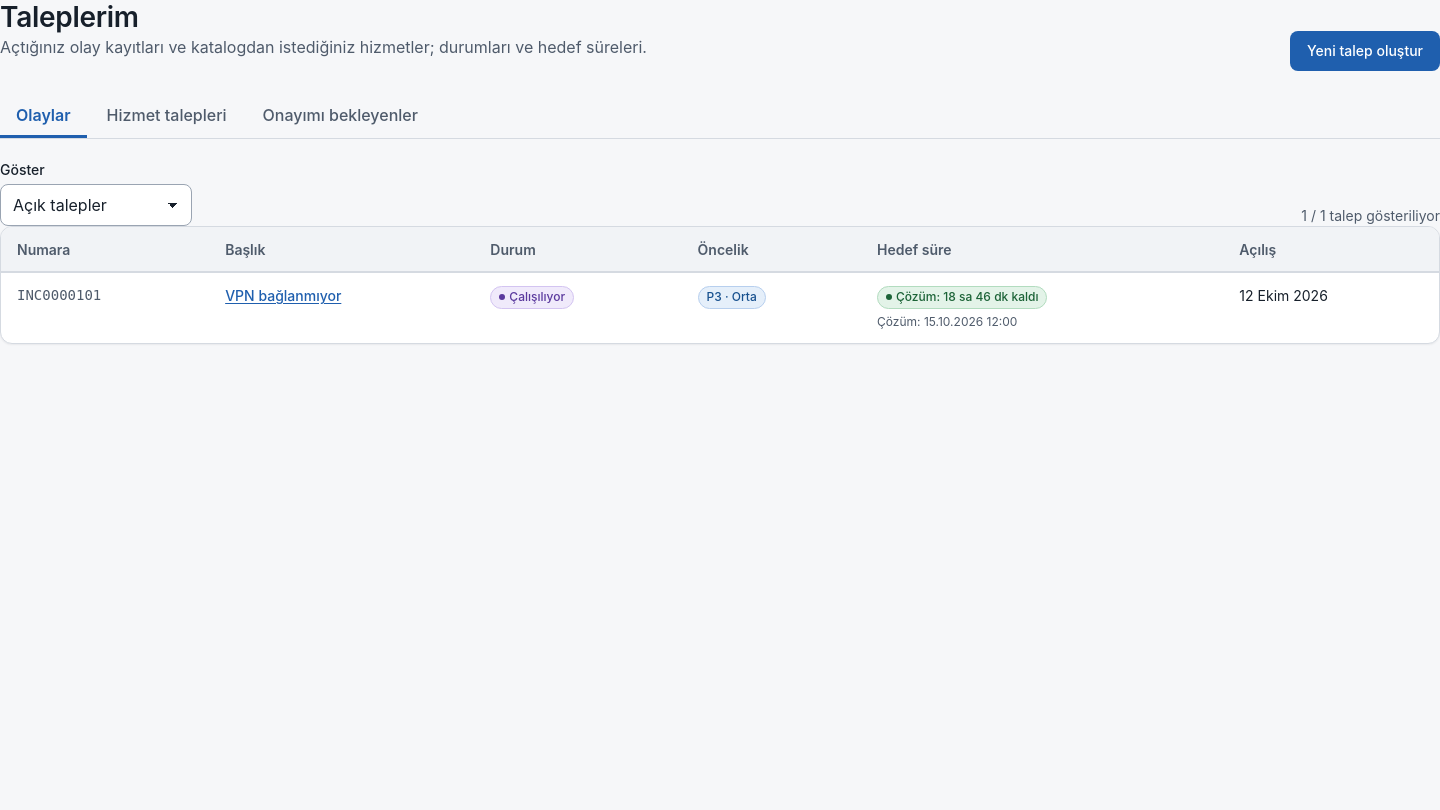
Test case: MyRequestsPage (/taleplerim) › ayrıntı paneli: kullanıcı bilgileri var, yapay zekâ iç ayrıntısı yok; Escape kapatır ve odağı geri verir
The width and height of the screenshot is (1440, 810).
Check: the heading "Taleplerim" is shown, box 0,0 -> 139,34
Step 1. Click the button with aria-label "INC0000101 VPN bağlanmıyor" → click(283, 296), box 225,285 -> 341,306
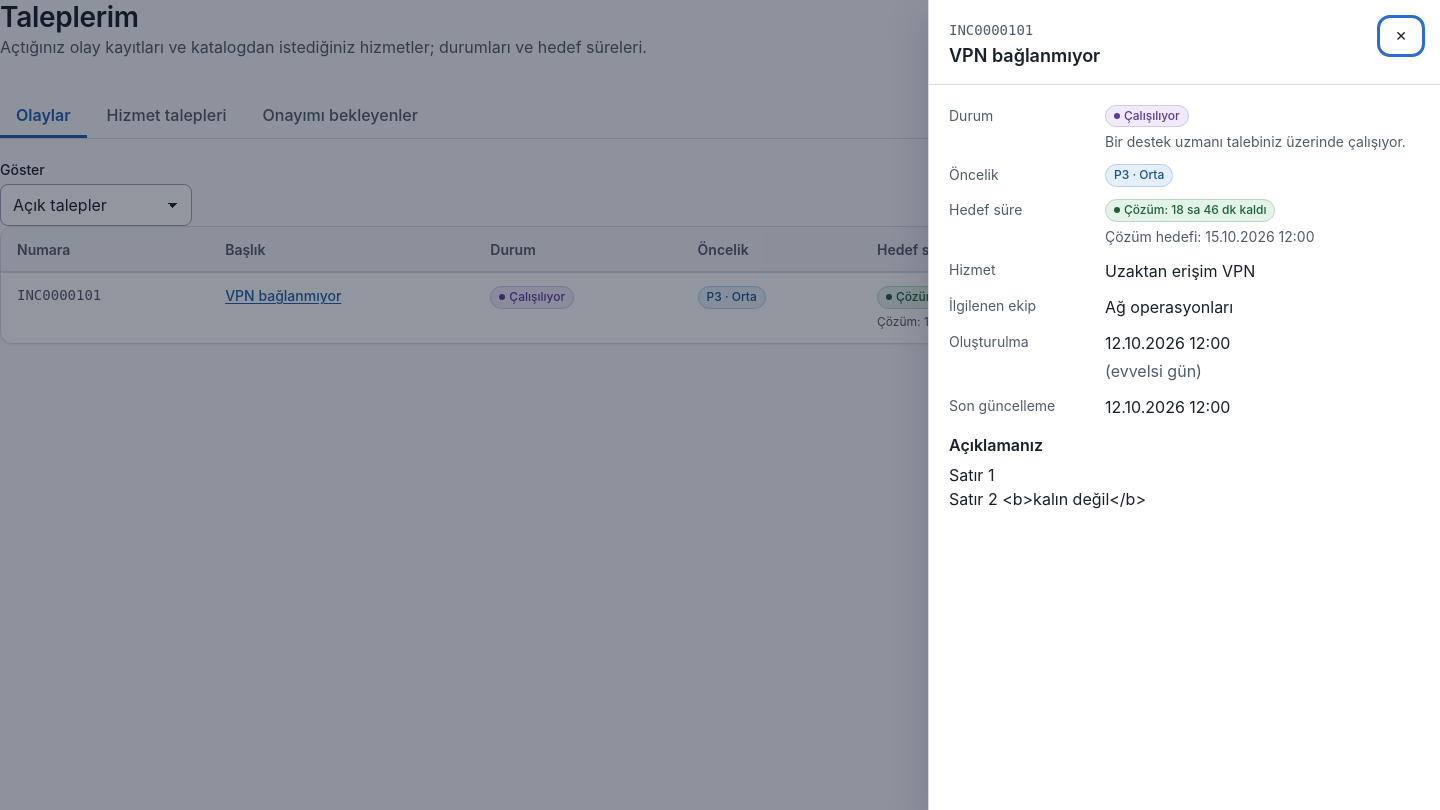
Check: the text "INC0000101" is shown, box 949,22 -> 1033,38
Check: the text "Uzaktan erişim VPN" is shown, box 1105,261 -> 1255,281
Check: the text "Ağ operasyonları" is shown, box 1105,297 -> 1233,317
Step 2. Press Escape
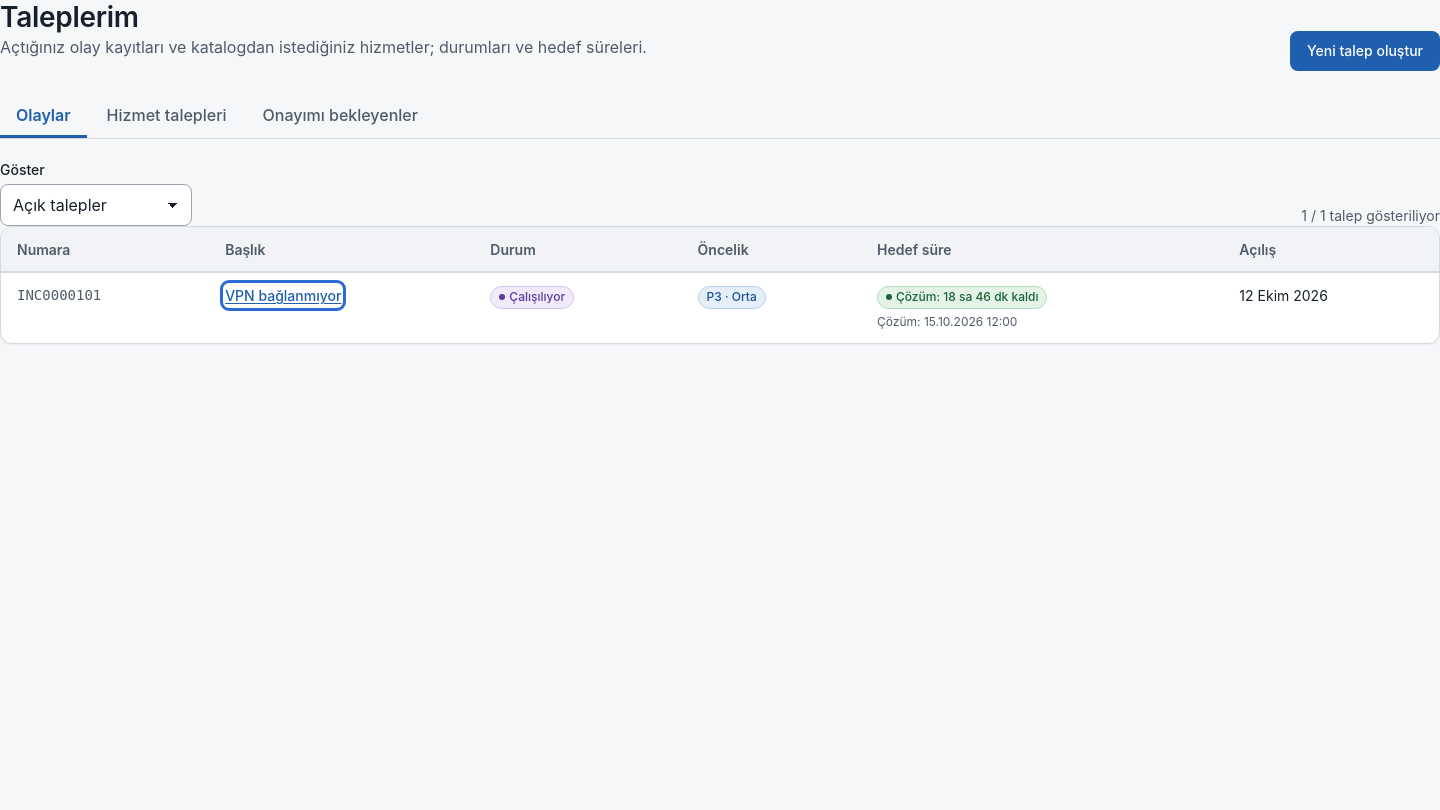
Check: the dialog is gone
